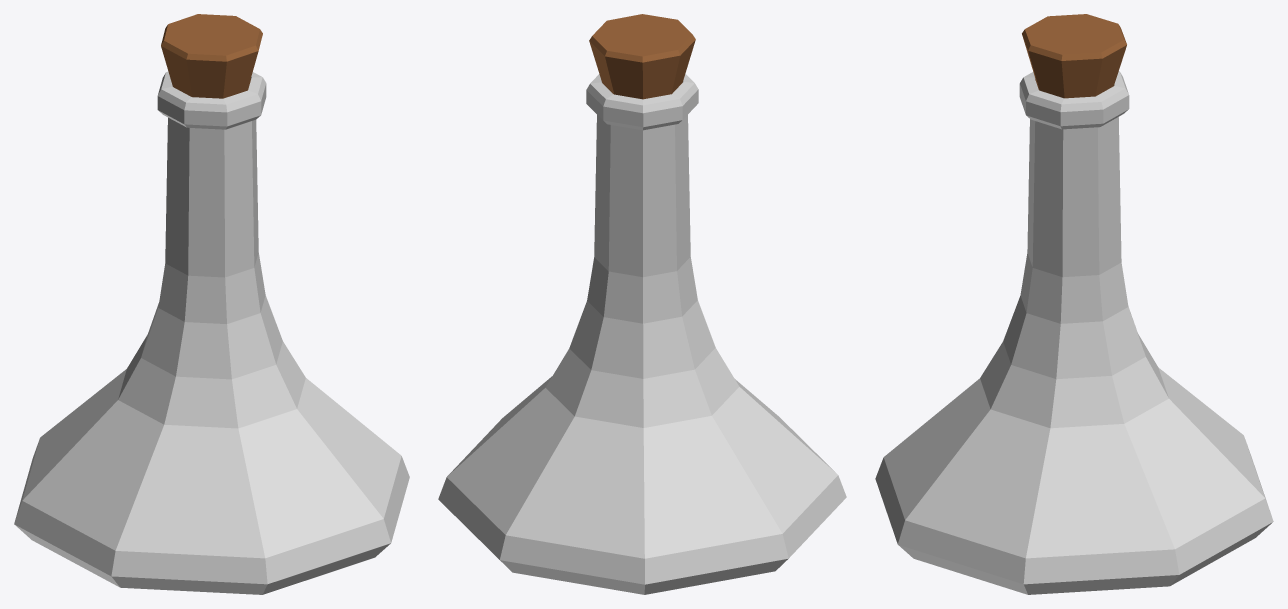
File: Flask.fbx
3 views of the same model, side by side, from view 1: azimuth 30°, elevation 25°; view 2: azimuth 150°, elevation 25°; view 3: azimuth 270°, elevation 25° (orthographic).
Parts seen in each view (by area): view 1: PotionTube.021; view 2: PotionTube.021; view 3: PotionTube.021.
Boxes of the visible parts, x1=… form: PotionTube.021: x1=14, y1=14, x2=409, y2=594; PotionTube.021: x1=438, y1=14, x2=846, y2=594; PotionTube.021: x1=875, y1=14, x2=1273, y2=594.
Size of the model in its own units: 30.49 by 43.2 by 30.49.
